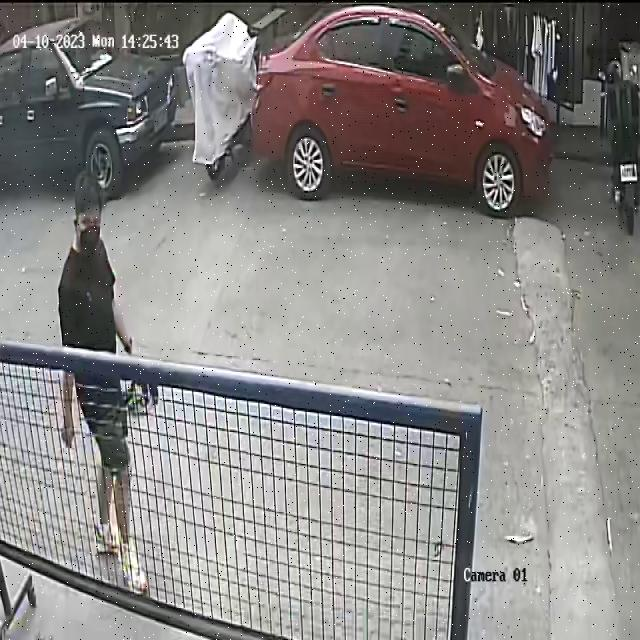human: (59, 172, 158, 595)
